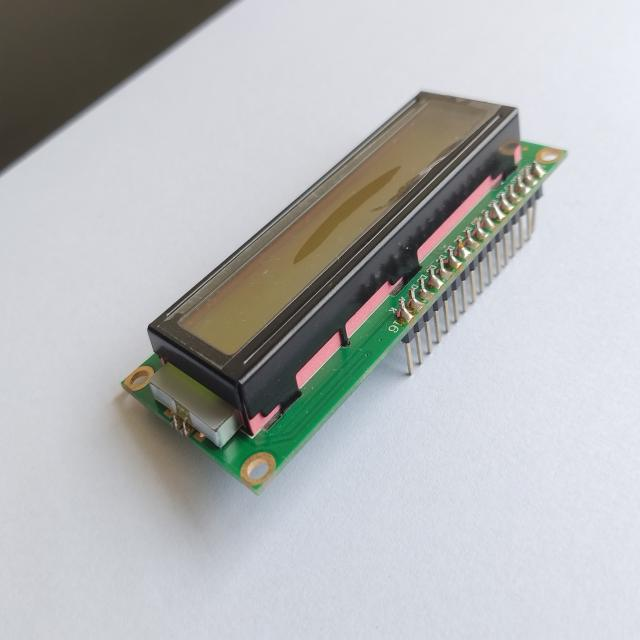lcd: (114, 72, 572, 508)
